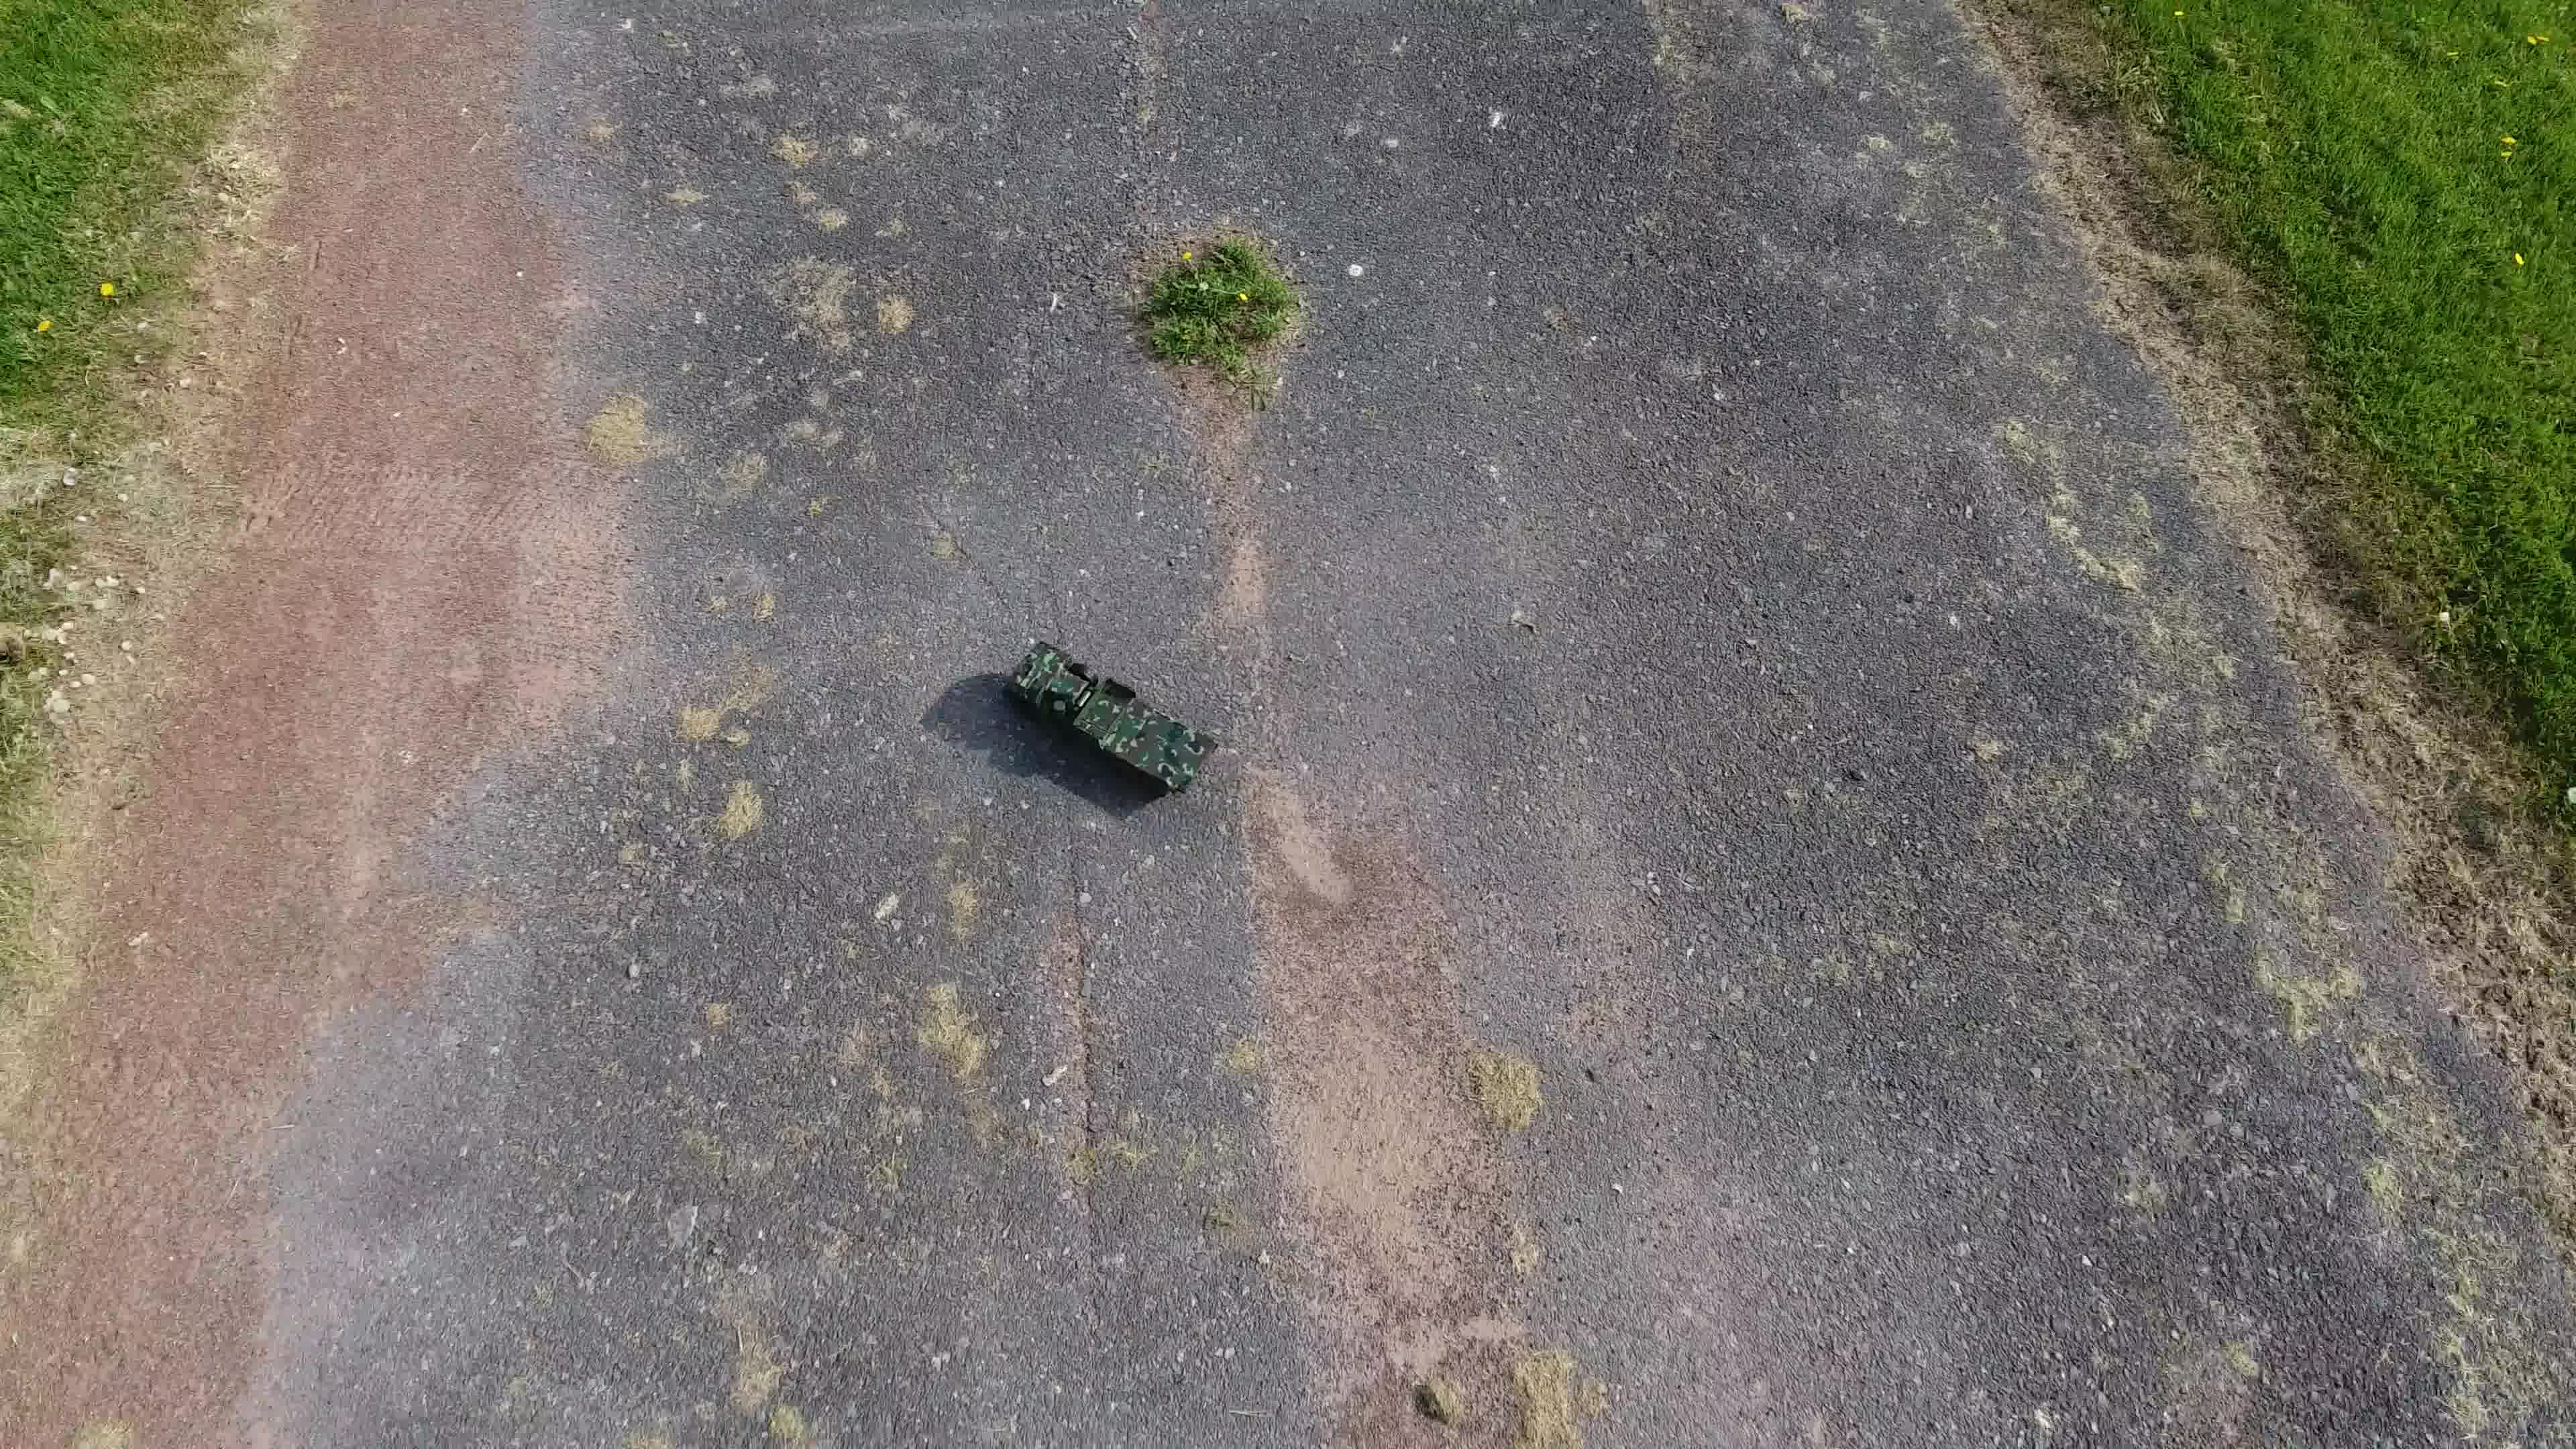transporter9_camo: (1000, 635, 1221, 805)
